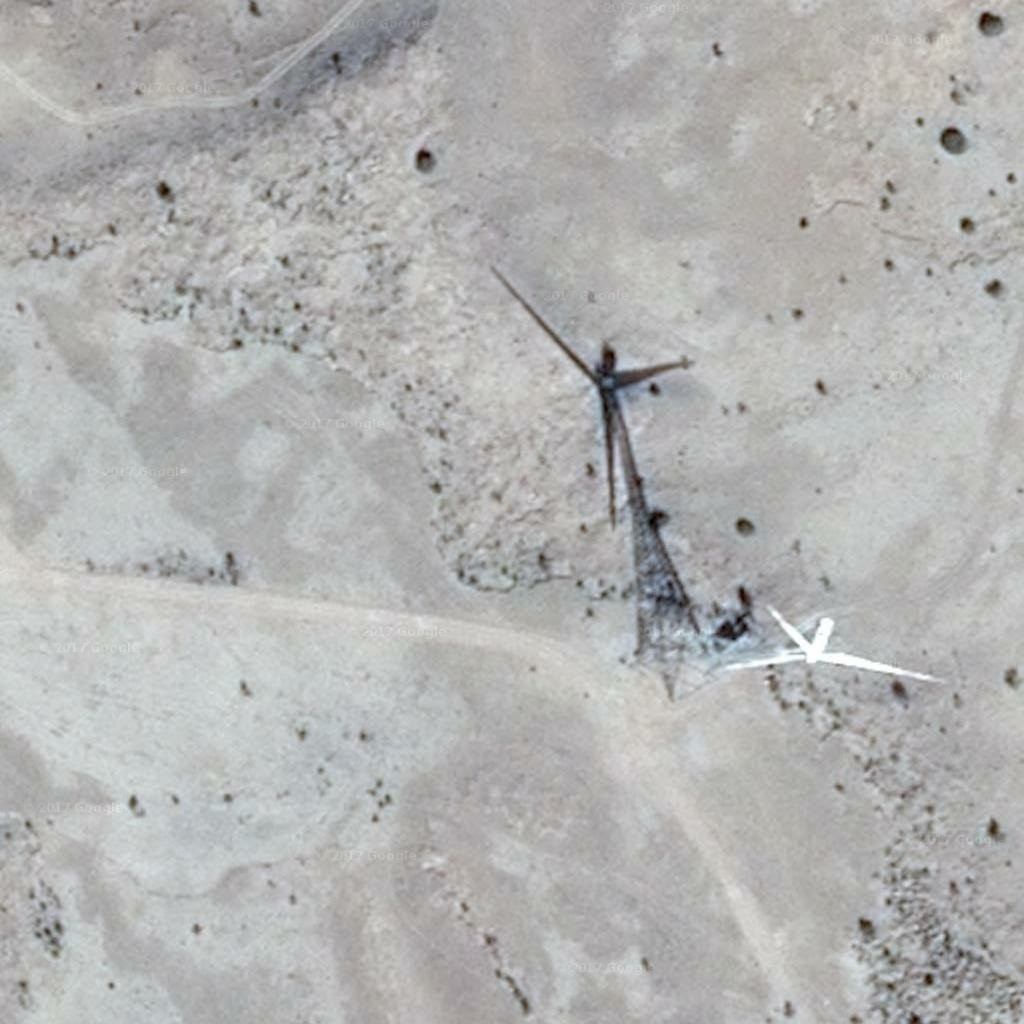Windmill: (480, 253, 725, 687)
